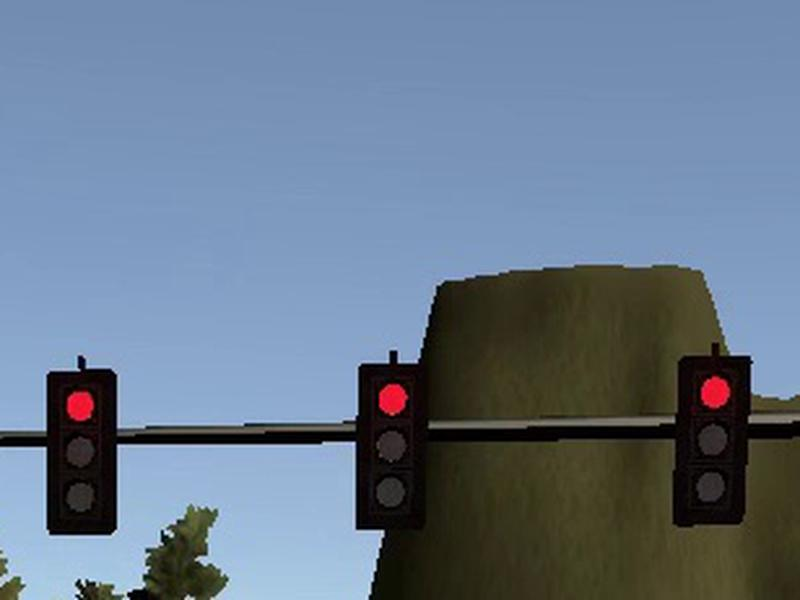Red: (671, 354, 753, 528), (43, 369, 119, 536), (357, 363, 427, 530)
